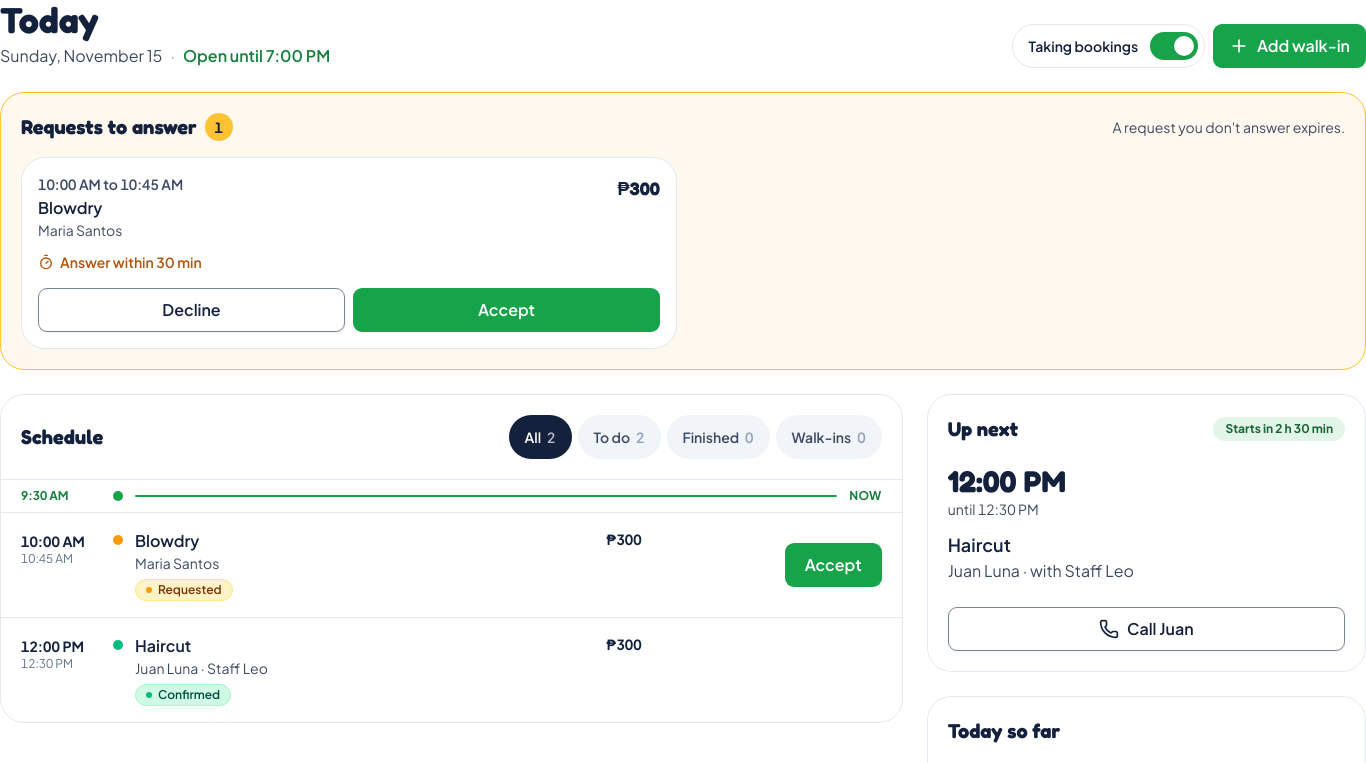
TodayView › opens the walk-in form
This screenshot has width=1366, height=763.
Click the button "Add walk-in" at coordinates (1290, 46), box [1213,24,1365,68]
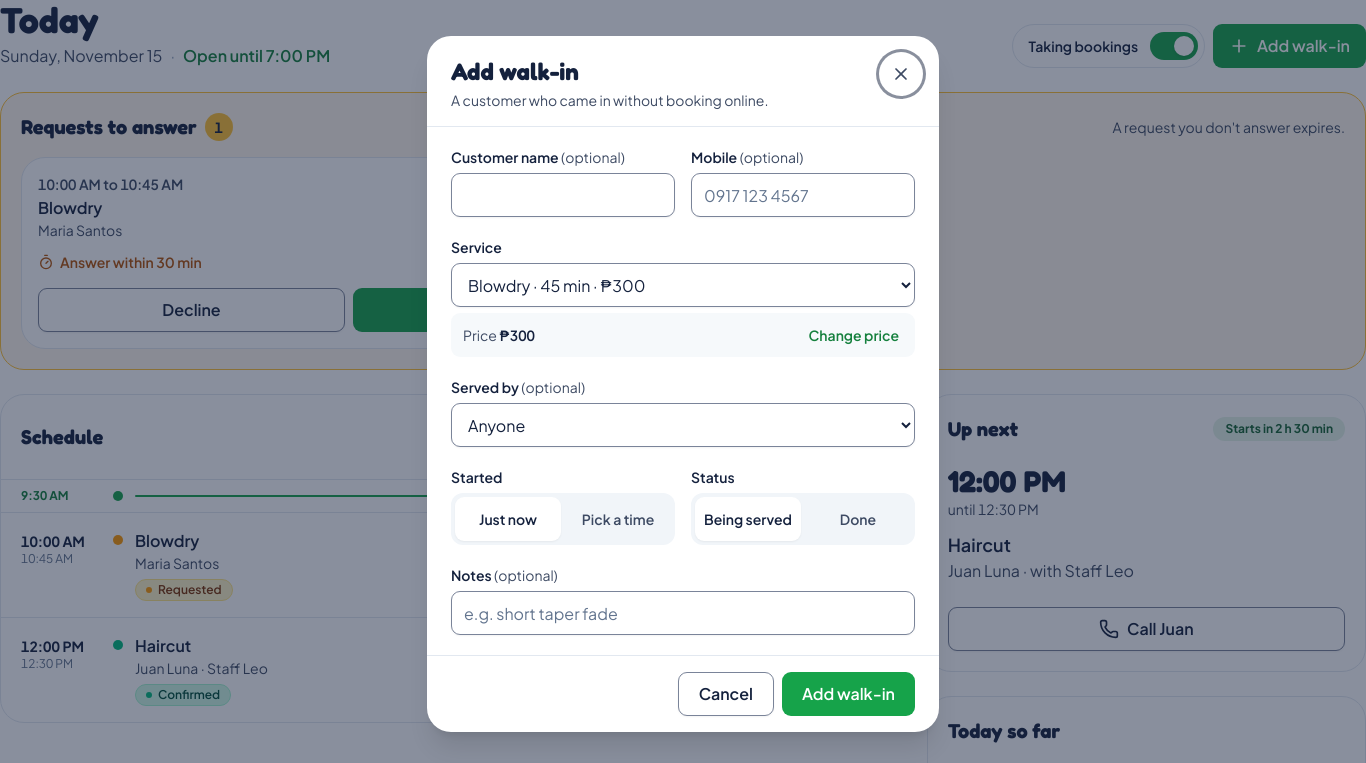
Check: the heading "Add walk-in" is shown, box [451,57,579,86]
